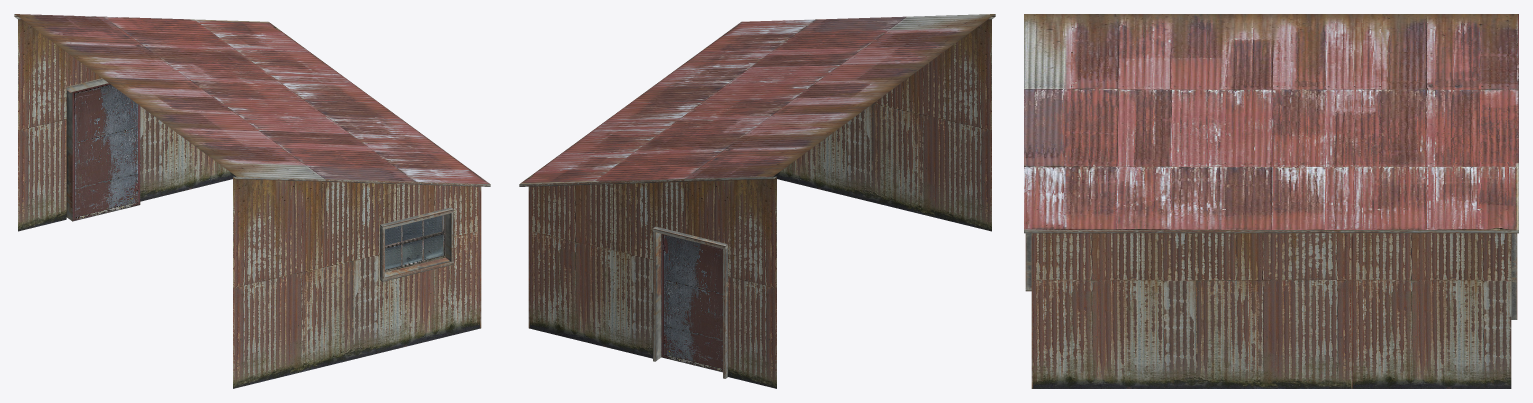
3 views of the same model, side by side, from view 1: azimuth 30°, elevation 25°; view 2: azimuth 150°, elevation 25°; view 3: azimuth 270°, elevation 25° (orthographic). The views are drawn at different scales.
Visible parts, largest first — view 1: Object1040; view 2: Object1040; view 3: Object1040.
Boxes of the visible parts, <box> form: Object1040: <box>14,14,490,388</box>; Object1040: <box>519,14,995,388</box>; Object1040: <box>1024,14,1518,388</box>.
Bounding box in the file's own units: 5.46 × 4.41 × 8.25.
1 material, 1 textured.
